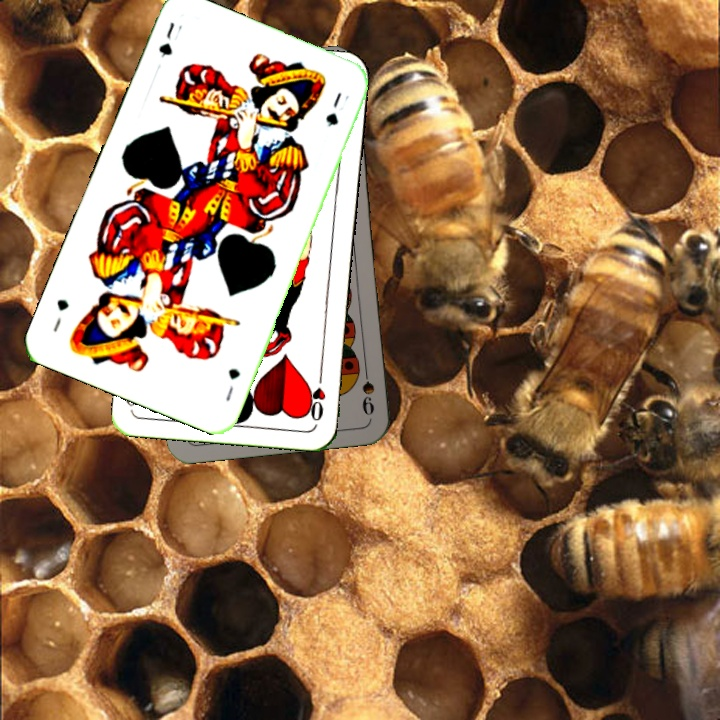GU: (154, 18, 185, 60), (221, 364, 243, 404)
HO: (305, 366, 329, 424)
S9: (358, 359, 377, 418)
